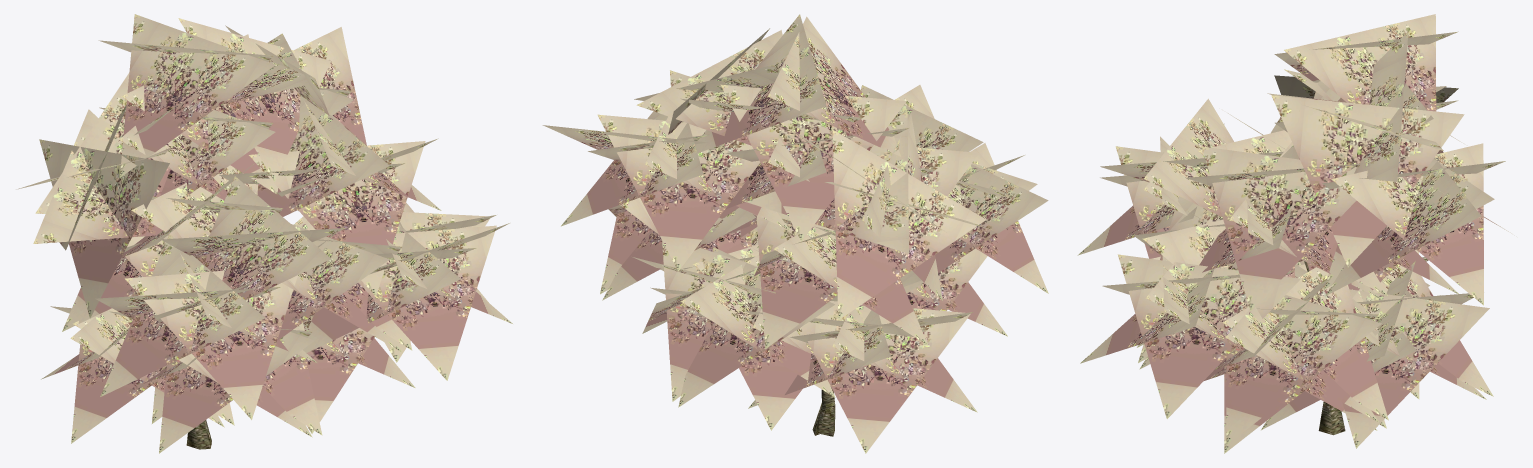
The model's file is flora_fruit_apple_v2.glb.
3 views of the same model, side by side, from view 1: azimuth 30°, elevation 25°; view 2: azimuth 150°, elevation 25°; view 3: azimuth 270°, elevation 25° (orthographic). The views are drawn at different scales.
Parts seen in each view (by area): view 1: flora_fruit_apple_v2_part1, flora_fruit_apple_v2_part0; view 2: flora_fruit_apple_v2_part1, flora_fruit_apple_v2_part0; view 3: flora_fruit_apple_v2_part1, flora_fruit_apple_v2_part0.
Boxes of the visible parts, x1,y1,x2,y2 form: flora_fruit_apple_v2_part1: [16, 14, 512, 453]; flora_fruit_apple_v2_part0: [186, 420, 211, 449]; flora_fruit_apple_v2_part1: [542, 14, 1048, 453]; flora_fruit_apple_v2_part0: [812, 387, 835, 436]; flora_fruit_apple_v2_part1: [1077, 14, 1511, 453]; flora_fruit_apple_v2_part0: [1304, 261, 1345, 435].
Bounding box in the file's own units: 15.93 × 14.27 × 14.09.
Materials: 2 (2 with a texture image).
